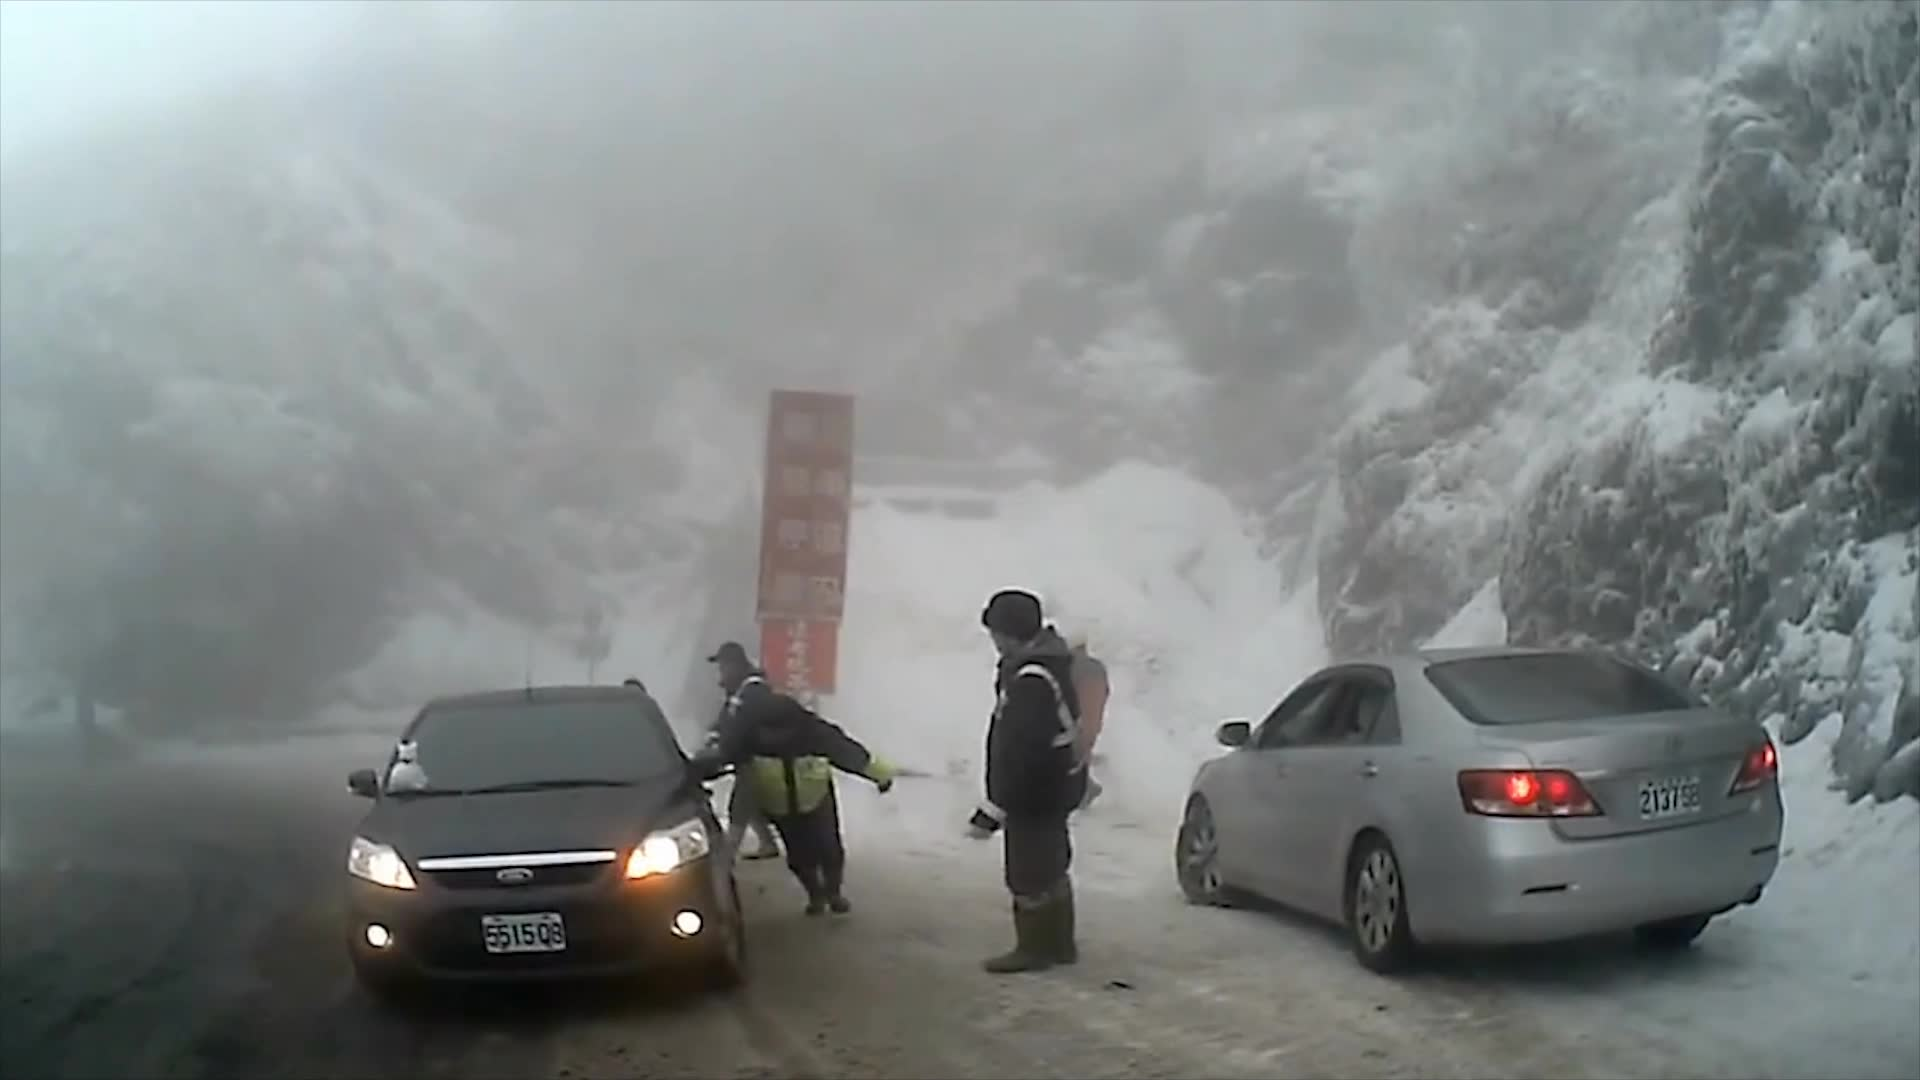pedestrian: (962, 589, 1093, 975), (688, 693, 901, 920), (702, 639, 793, 864), (1044, 624, 1123, 814)
vehicle: (1174, 644, 1785, 971), (339, 682, 753, 1000)
